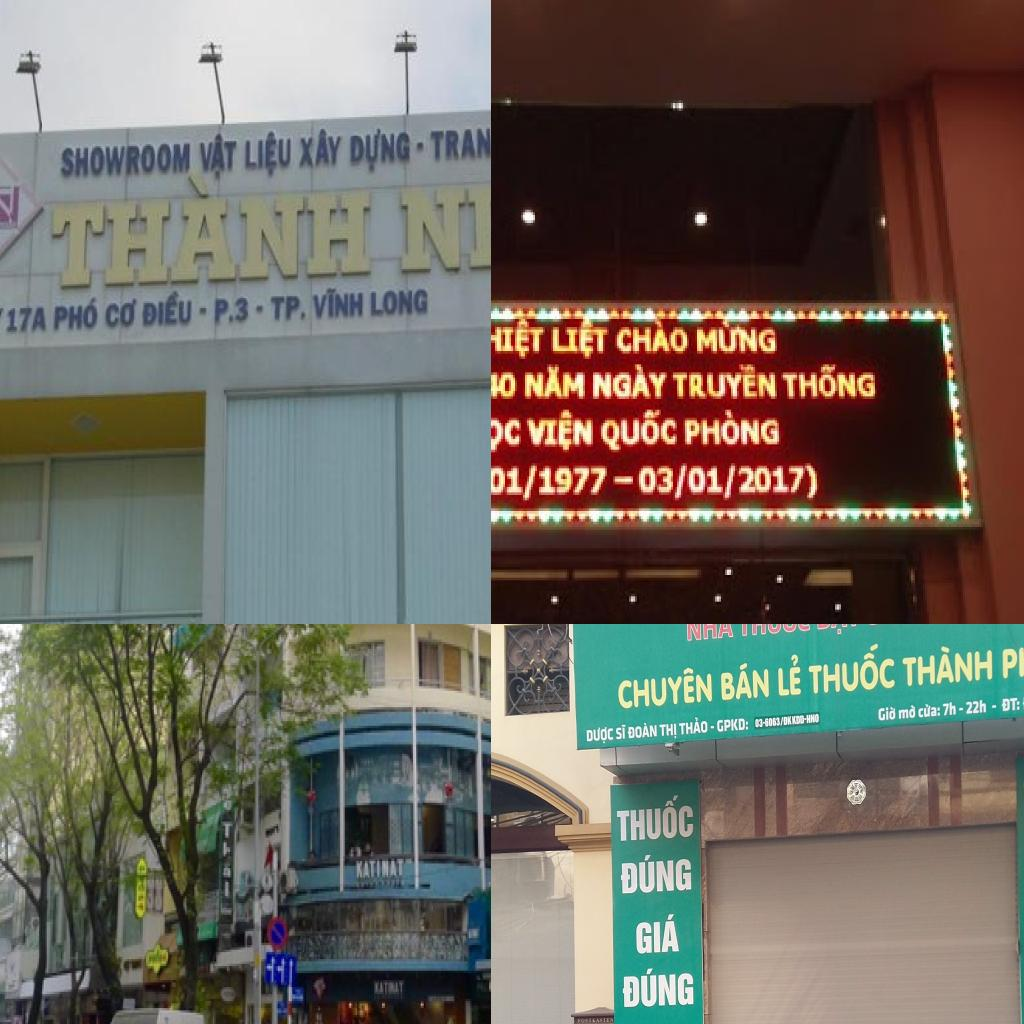text: (51, 170, 375, 293), (397, 166, 491, 277), (60, 141, 193, 182), (806, 642, 897, 696), (617, 663, 715, 712), (902, 639, 994, 687), (669, 362, 779, 402), (615, 793, 696, 845), (683, 410, 783, 450), (599, 407, 681, 455), (781, 362, 879, 402), (693, 316, 779, 356), (525, 407, 595, 455), (619, 849, 692, 895), (622, 962, 695, 1008), (591, 362, 669, 402), (349, 126, 412, 175), (615, 316, 691, 356), (491, 316, 547, 364), (549, 319, 611, 362), (537, 463, 609, 500), (243, 129, 294, 180), (428, 123, 491, 163), (523, 364, 587, 402), (717, 658, 769, 703), (140, 288, 194, 328), (197, 132, 240, 182), (52, 294, 102, 336), (370, 286, 431, 320), (298, 127, 344, 172), (309, 286, 366, 322), (634, 911, 680, 955), (0, 303, 48, 339), (687, 463, 725, 498), (354, 857, 407, 882), (491, 417, 525, 455), (1001, 624, 1024, 680), (212, 294, 251, 327), (269, 291, 308, 324), (105, 295, 139, 332), (776, 652, 802, 697), (639, 466, 675, 498), (754, 713, 820, 730), (491, 465, 525, 497), (733, 624, 809, 638), (680, 624, 735, 643), (491, 369, 519, 404), (521, 463, 539, 506), (0, 185, 17, 229), (585, 724, 615, 748), (626, 720, 658, 740), (678, 715, 708, 736), (716, 716, 749, 734), (675, 466, 691, 503), (814, 624, 863, 636), (723, 466, 739, 500), (964, 698, 988, 716), (917, 702, 941, 719), (877, 703, 896, 724), (897, 702, 917, 721), (660, 721, 678, 742), (1000, 696, 1020, 714), (576, 1016, 614, 1024), (942, 700, 957, 718), (615, 722, 626, 742)
